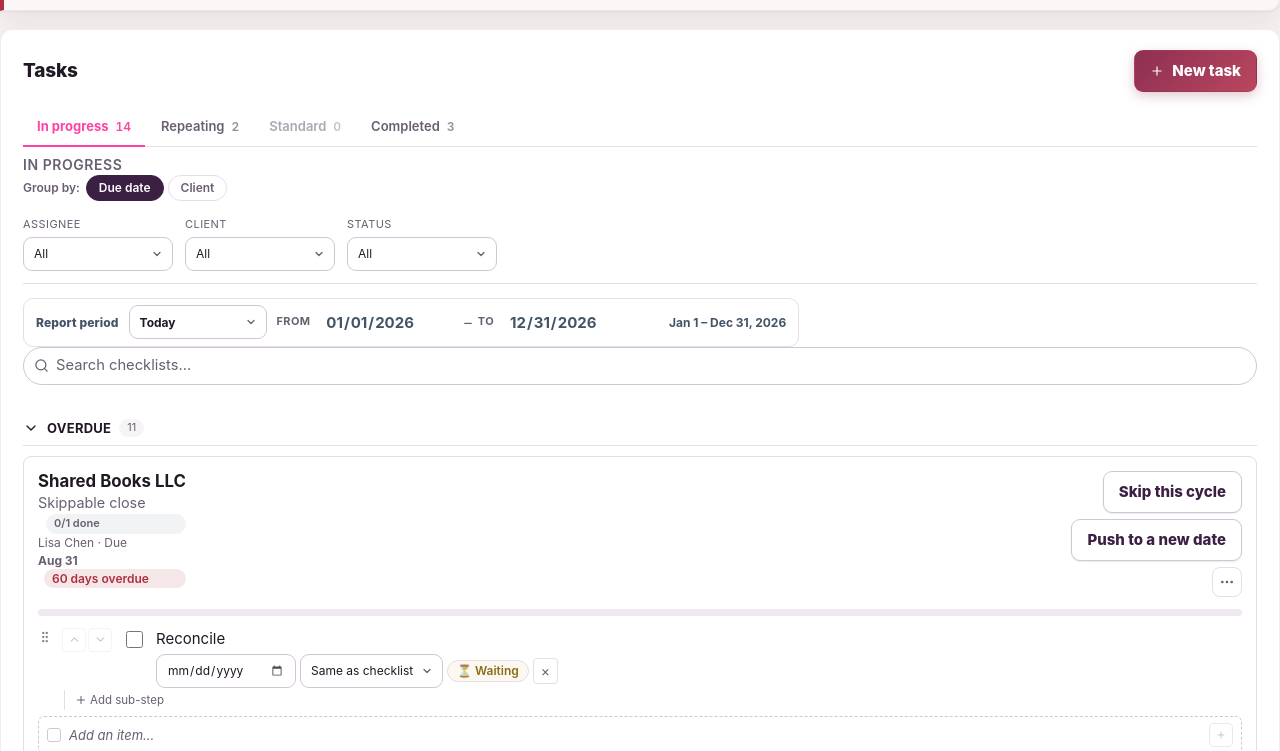
Test case: the push affordance › opens pre-filled with the next cycle of this task’s own schedule
Click the button "Push to a new date": (1157, 540) [1072,519,1242,561]
(page scrolled)
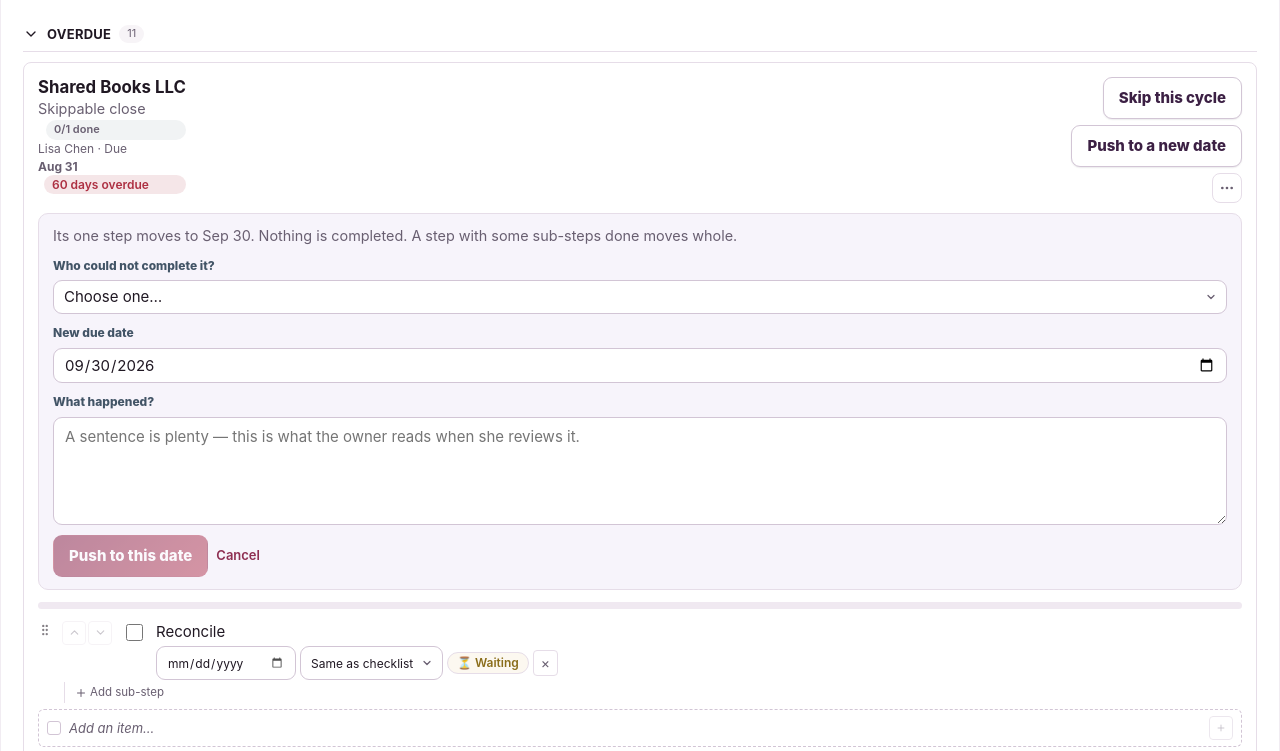
expect the date field labelled "New due date" holds "2026-09-30": met, box [53,348,1227,383]
